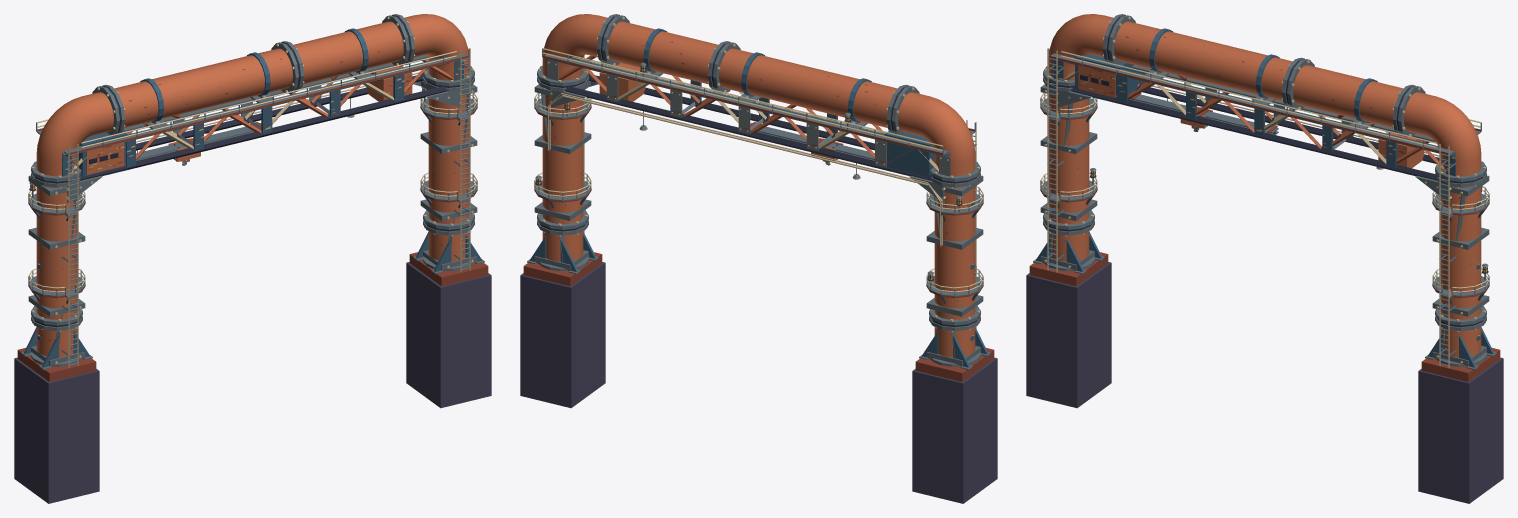
Rendered from foundry-service-gantry-v2.glb.
3 renders of one model, left to right at view 1: azimuth 30°, elevation 25°; view 2: azimuth 150°, elevation 25°; view 3: azimuth 330°, elevation 25°, orthographic.
Parts seen in each view (by area): view 1: foundry-service-gantry-v2; view 2: foundry-service-gantry-v2; view 3: foundry-service-gantry-v2.
Boxes of the visible parts, x1,y1,x2,y2 form: foundry-service-gantry-v2: (14, 14, 491, 503); foundry-service-gantry-v2: (520, 14, 997, 503); foundry-service-gantry-v2: (1026, 14, 1503, 503).
Bounding box in the file's own units: 104 × 86.4 × 14.
